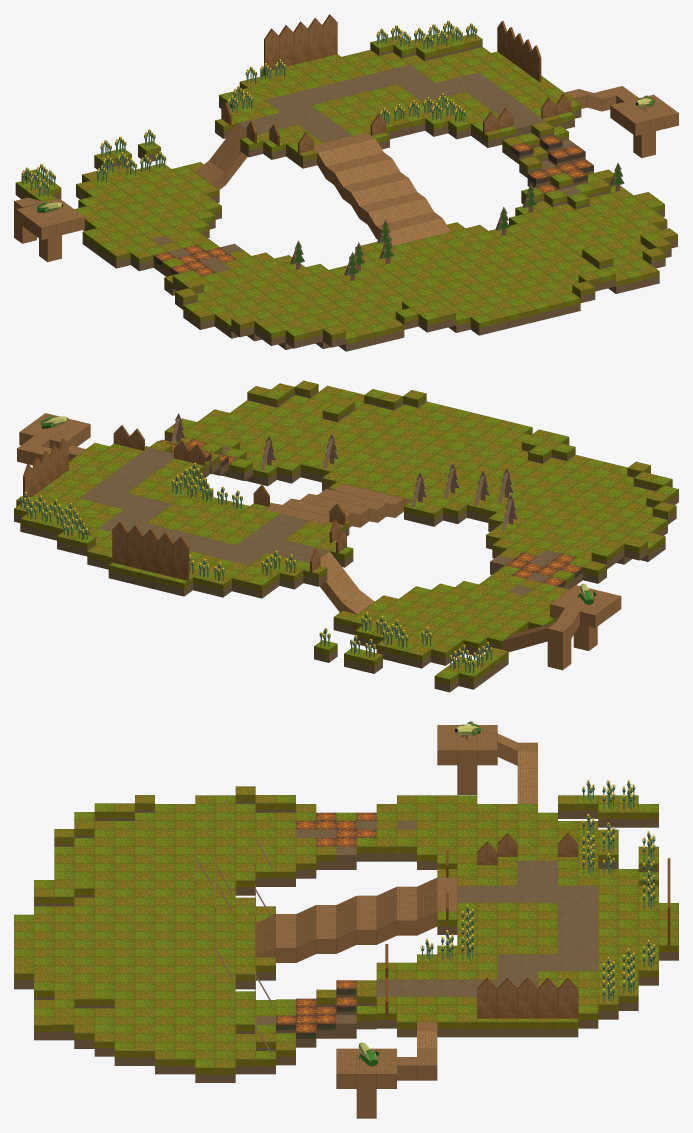
The model's file is Level 5.fbx.
3 renders of one model, top to bottom at view 1: azimuth 30°, elevation 25°; view 2: azimuth 150°, elevation 25°; view 3: azimuth 270°, elevation 25°, orthographic. The views are drawn at different scales.
Parts seen in each view (by area): view 1: Level5.752, Level5.692, Fences.013, Fences, Fences.012, Fences.011, Fences.010, Level5.746; view 2: Level5.746, Fences.010, Fences.011, Fences, Fences.012, Fences.013, Level5.692, Level5.699; view 3: Level5.692, Fences.017, Fences.014, Fences.015, Fences.016, Fences.018, Level5.752.
Part boxes in pixels (x1,y1,x2,y2): Level5.752: (633,106,655,158); Level5.692: (39,210,61,262); Fences.013: (308,18,323,60); Fences: (322,14,337,57); Fences.012: (293,21,308,64); Fences.011: (279,25,294,67); Fences.010: (264,28,279,72); Level5.746: (14,197,36,243); Level5.746: (547,622,571,670); Fences.010: (173,536,189,581); Fences.011: (157,532,173,576); Fences: (112,521,128,565); Fences.012: (142,528,158,573); Fences.013: (127,524,143,569); Level5.692: (573,597,597,650); Level5.699: (327,577,350,612); Level5.692: (457,734,477,794); Fences.017: (517,977,537,1018); Fences.014: (558,977,578,1018); Fences.015: (477,977,497,1018); Fences.016: (497,977,517,1018); Fences.018: (538,978,557,1018); Level5.752: (356,1057,376,1118).
Size of the model in its own units: 8200 by 1221 by 6600.
10 materials, 8 textured.
